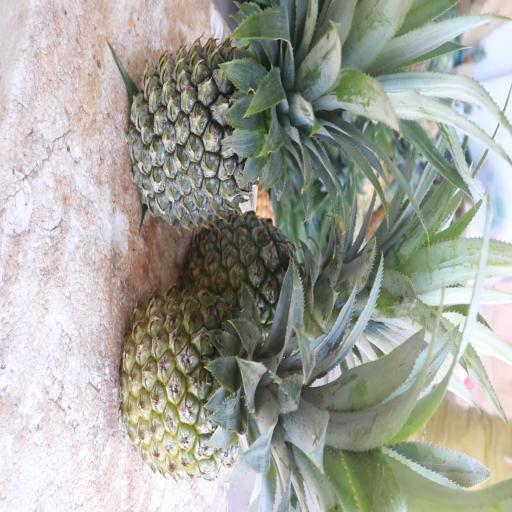------------------------------: (115, 280, 350, 486), (183, 208, 371, 348)
